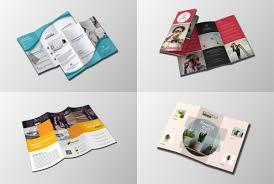paper: (17, 11, 118, 80), (161, 8, 255, 76), (159, 104, 250, 172), (23, 108, 115, 170)
